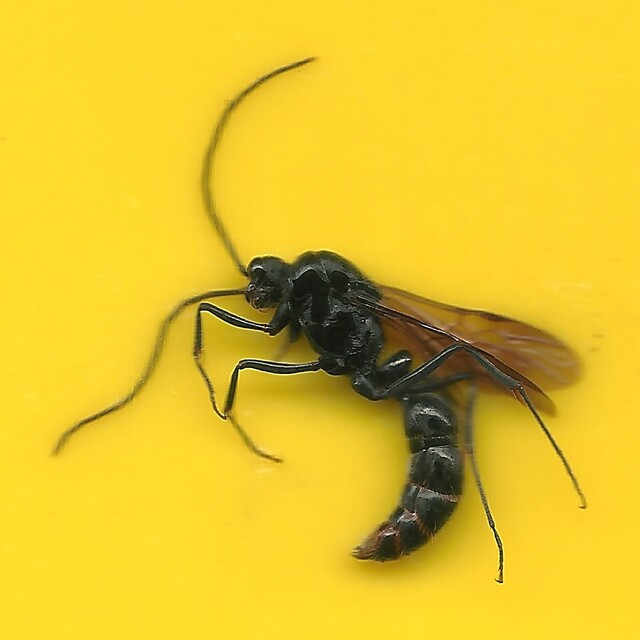Hymenoptera: (53, 56, 587, 584)
